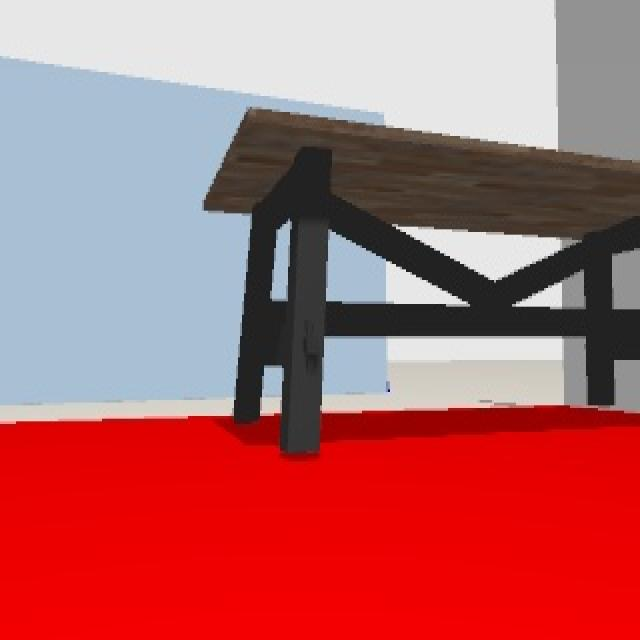dining: (207, 106, 640, 457)
